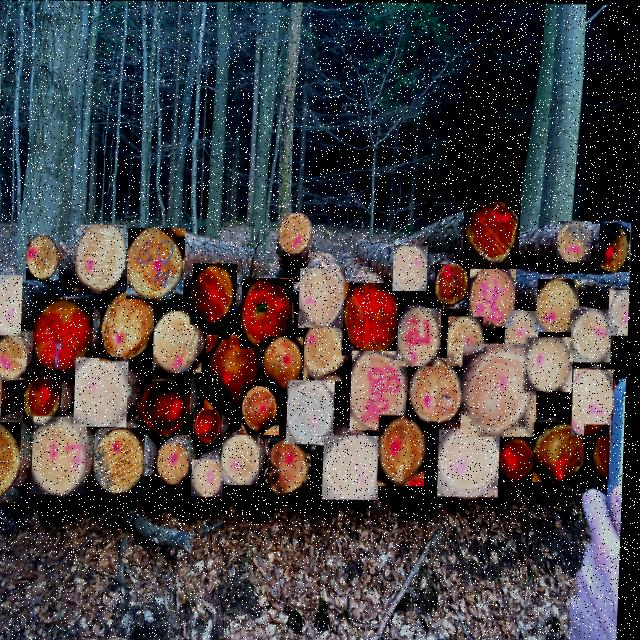wood-log: (465, 343, 540, 436), (353, 351, 410, 429), (37, 299, 95, 372), (36, 417, 89, 495), (346, 282, 402, 355), (442, 429, 503, 495), (208, 334, 261, 409), (466, 196, 521, 268), (103, 290, 158, 361), (130, 228, 185, 299), (77, 358, 131, 427), (327, 435, 383, 499), (245, 279, 294, 348), (97, 428, 148, 494), (77, 225, 128, 290), (382, 415, 429, 485), (413, 358, 465, 421), (537, 421, 589, 481), (290, 381, 337, 444), (156, 311, 204, 372), (301, 268, 347, 327), (472, 268, 518, 326), (143, 381, 193, 434), (195, 263, 238, 324), (576, 369, 615, 435), (528, 337, 576, 390), (400, 308, 443, 366), (265, 337, 306, 395), (307, 324, 349, 379), (273, 438, 313, 495), (574, 308, 614, 362), (540, 278, 579, 331), (27, 371, 65, 423), (226, 434, 263, 485), (0, 422, 24, 500), (245, 385, 282, 435), (450, 317, 485, 365), (502, 436, 538, 482), (508, 310, 541, 356), (0, 275, 25, 335), (396, 245, 429, 290), (29, 235, 61, 280), (437, 264, 472, 305), (559, 220, 593, 261), (281, 213, 314, 255), (0, 333, 29, 380), (602, 222, 630, 270), (589, 424, 613, 479), (161, 445, 192, 483), (195, 460, 227, 495), (198, 406, 225, 445), (611, 289, 632, 335), (0, 358, 6, 417)
